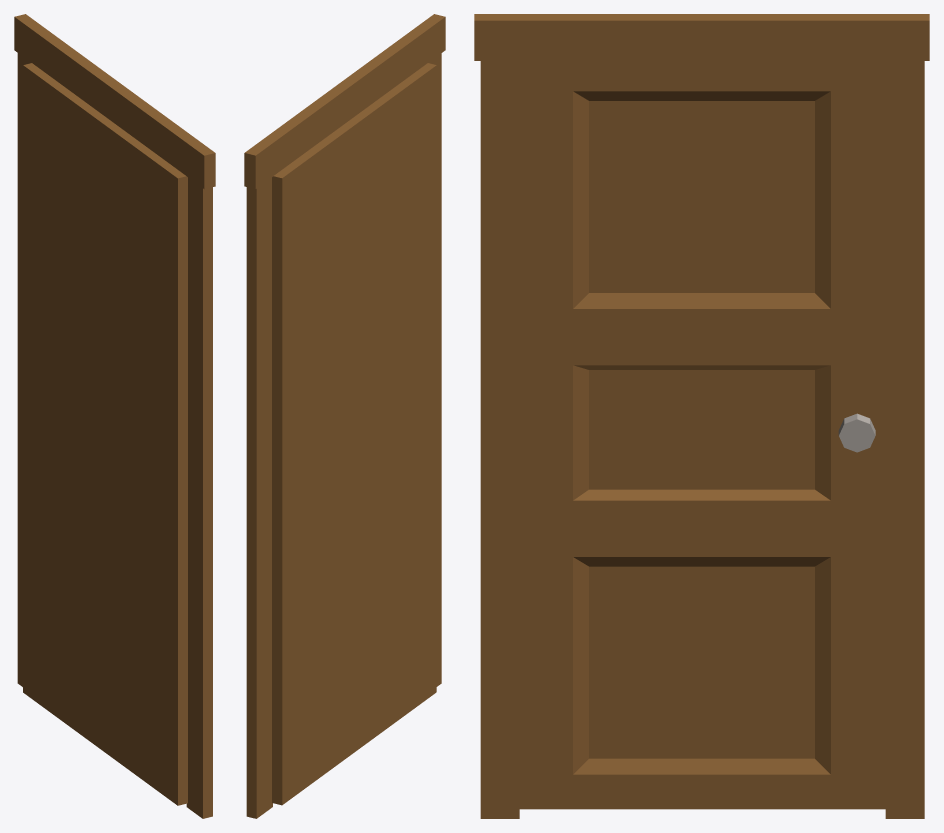
File: door.fbx
3 renders of one model, left to right at view 1: azimuth 30°, elevation 25°; view 2: azimuth 150°, elevation 25°; view 3: azimuth 270°, elevation 25°, orthographic. The views are drawn at different scales.
Parts seen in each view (by area): view 1: polySurface4, polySurface2, polySurface3, polySurface1; view 2: polySurface4, polySurface1, polySurface3, polySurface2; view 3: polySurface4, polySurface1, polySurface2, polySurface3, polySurface5.
Boxes of the visible parts, x1,y1,x2,y2 form: polySurface4: (23, 63, 187, 805); polySurface2: (186, 177, 212, 818); polySurface3: (14, 14, 215, 189); polySurface1: (17, 53, 31, 686); polySurface4: (272, 63, 436, 805); polySurface1: (246, 177, 272, 818); polySurface3: (244, 14, 445, 188); polySurface2: (428, 53, 441, 686); polySurface4: (519, 61, 885, 809); polySurface1: (885, 61, 924, 818); polySurface2: (480, 61, 519, 818); polySurface3: (474, 14, 929, 60); polySurface5: (838, 413, 875, 452).
Size of the model in its own units: 6.96 by 192 by 99.26.
